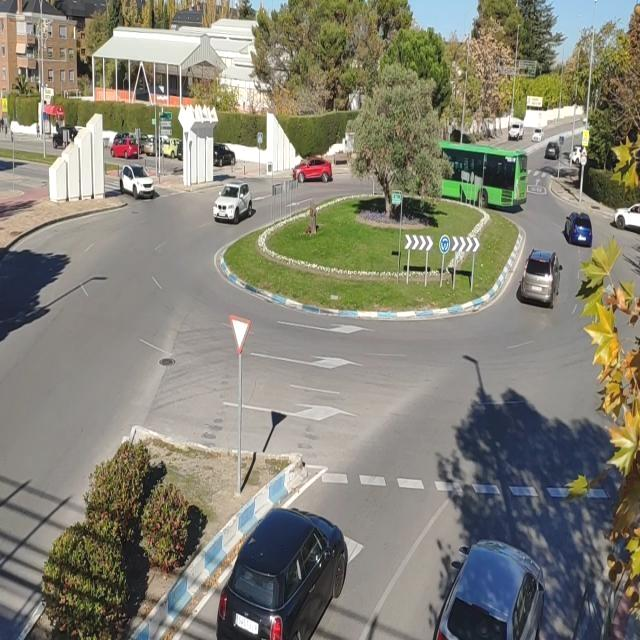Bus: (413, 139, 538, 211)
Car: (209, 486, 355, 640), (431, 516, 551, 638), (505, 242, 567, 331), (563, 186, 607, 270), (116, 150, 160, 218), (288, 135, 334, 195), (217, 164, 251, 225)
